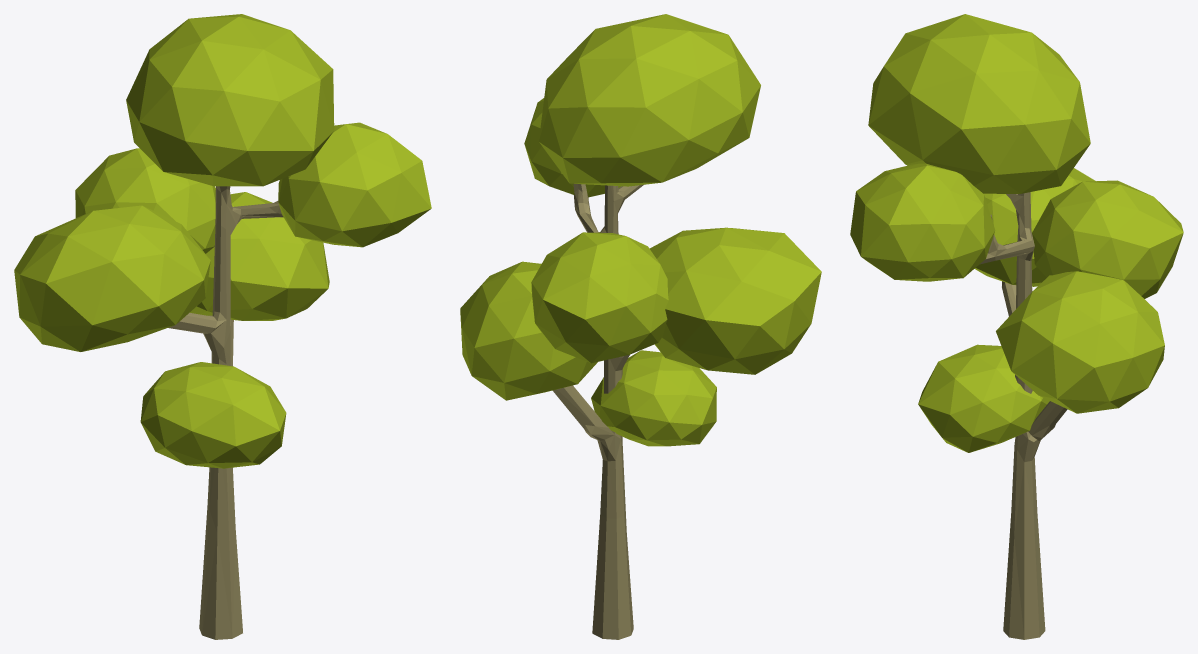
File: birch_2.glb
3 renders of one model, left to right at view 1: azimuth 30°, elevation 25°; view 2: azimuth 150°, elevation 25°; view 3: azimuth 270°, elevation 25°, orthographic. The views are drawn at different scales.
Visible parts, largest first — view 1: Icosphere.004; view 2: Icosphere.004; view 3: Icosphere.004.
Part boxes in pixels (<box>): Icosphere.004: <box>14,14,431,639</box>; Icosphere.004: <box>460,14,821,639</box>; Icosphere.004: <box>850,14,1183,639</box>.
Bounding box in the file's own units: 4.75 × 8.45 × 4.29.
